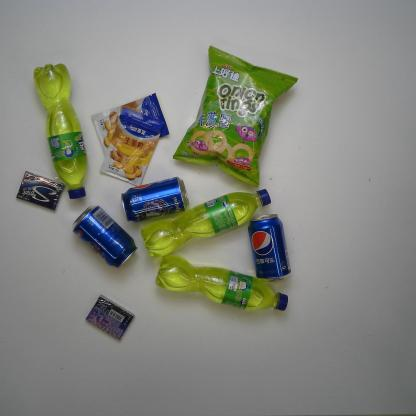Drink: (140, 186, 272, 260), (153, 250, 289, 314), (30, 61, 89, 203), (70, 202, 139, 271), (116, 176, 189, 226), (247, 212, 293, 284)
Gum: (85, 292, 136, 343), (15, 168, 66, 215)
Puffed Food: (170, 44, 300, 190)
Seasoner: (85, 90, 170, 161), (99, 107, 165, 189)
